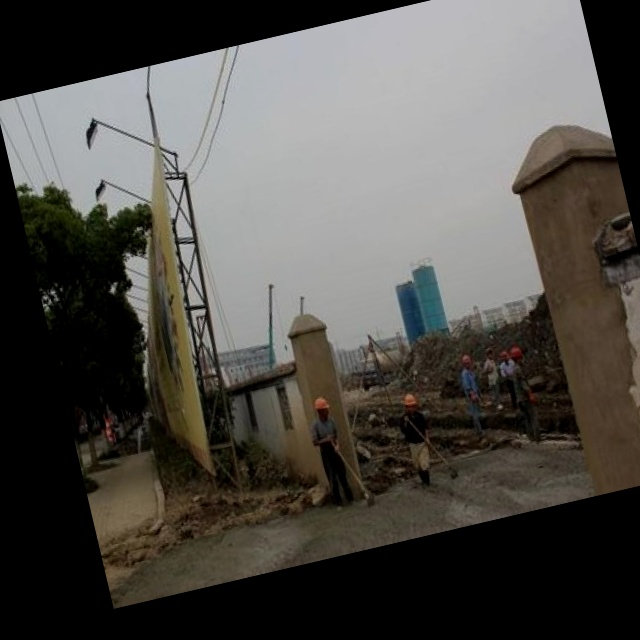Con_Casco: (312, 394, 333, 423), (401, 393, 419, 415)
